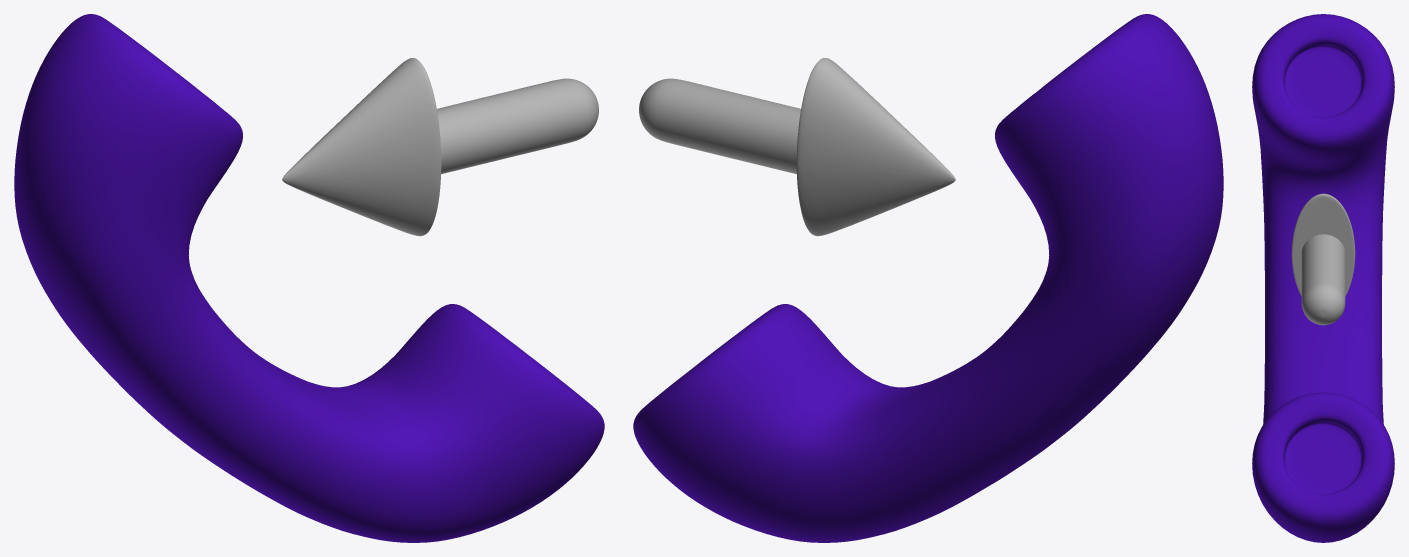
Rendered from call-in.glb.
3 views of the same model, side by side, from view 1: azimuth 30°, elevation 25°; view 2: azimuth 150°, elevation 25°; view 3: azimuth 270°, elevation 25° (orthographic). The views are drawn at different scales.
Visible parts, largest first — view 1: Phone Income; view 2: Phone Income; view 3: Phone Income.
Boxes of the visible parts, x1,y1,x2,y2 form: Phone Income: (14, 14, 604, 542); Phone Income: (633, 14, 1223, 542); Phone Income: (1252, 14, 1394, 542).
Size of the model in its own units: 1.79 by 1.77 by 0.5743.
